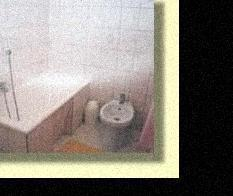Bote de Basura: (85, 95, 99, 127)
